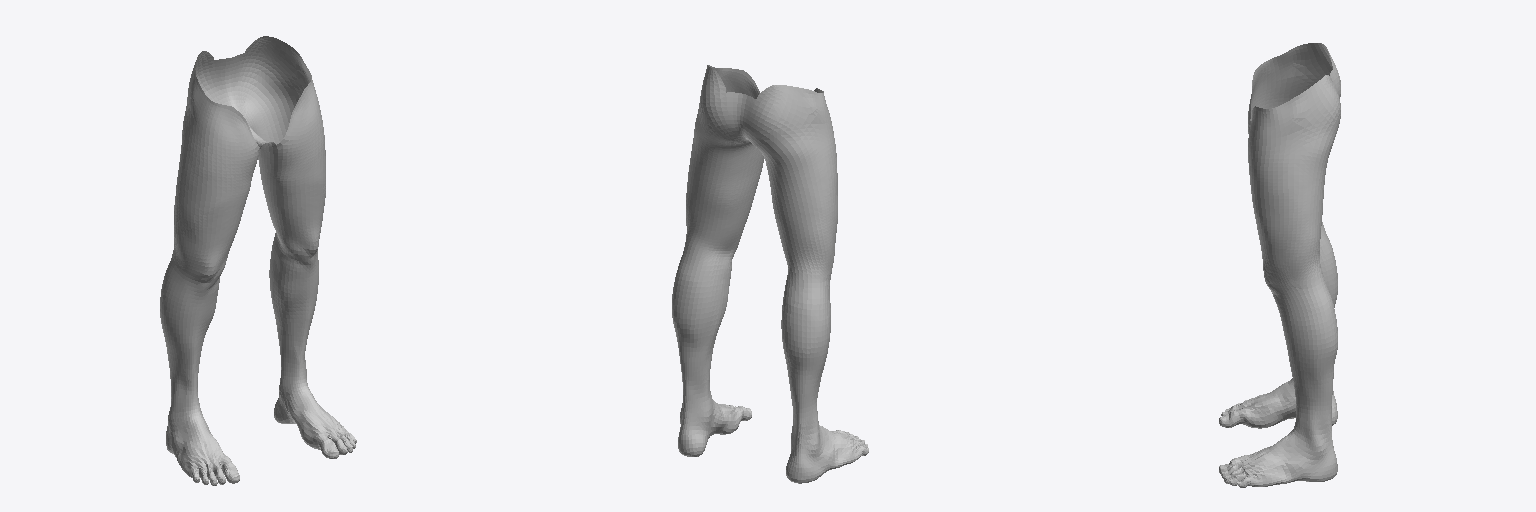
File: legs.obj
3 views of the same model, side by side, from view 1: azimuth 30°, elevation 25°; view 2: azimuth 150°, elevation 25°; view 3: azimuth 270°, elevation 25° (orthographic).
Visible parts, largest first — view 1: 000_Male_base_-_piece; view 2: 000_Male_base_-_piece; view 3: 000_Male_base_-_piece.
Part boxes in pixels (x1,y1,x2,y2): 000_Male_base_-_piece: (160, 36, 356, 485); 000_Male_base_-_piece: (672, 65, 868, 483); 000_Male_base_-_piece: (1219, 43, 1340, 487).
Size of the model in its own units: 5.28 by 12.2 by 3.46.